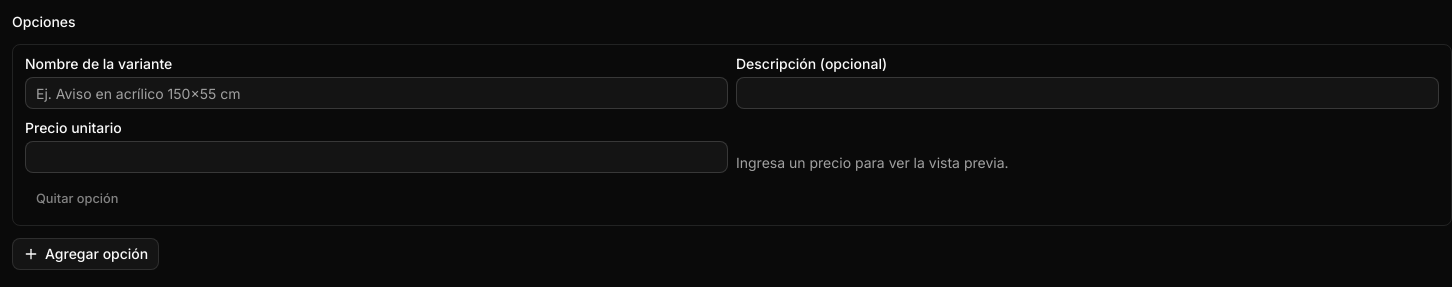
Test case: CatalogVariantFields › previews the flat unit price for a 'variant' mode row as the user types
The image size is (1452, 287).
Type "120000" into the field labelled "Precio unitario".
click(376, 157); type("120000")  # box [25,141,728,173]
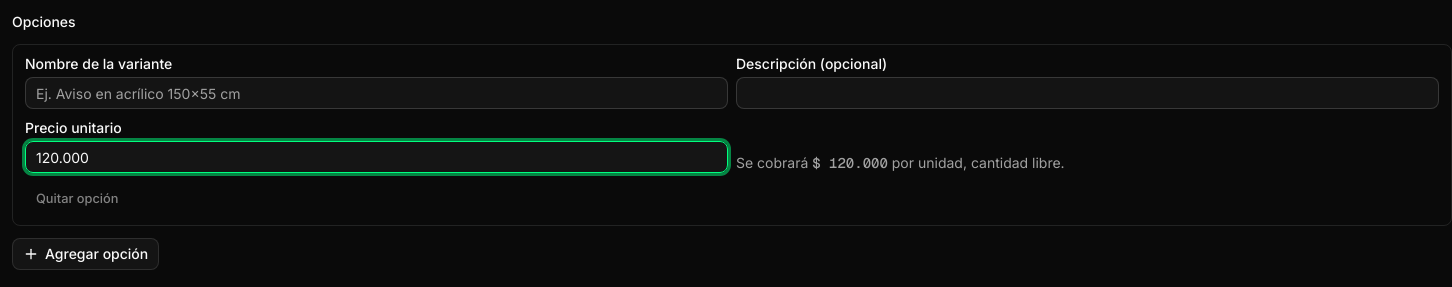
Result: the text "Se cobrará $ 120.000 por unidad, cantidad libre." is shown at [736,154,1065,172]
